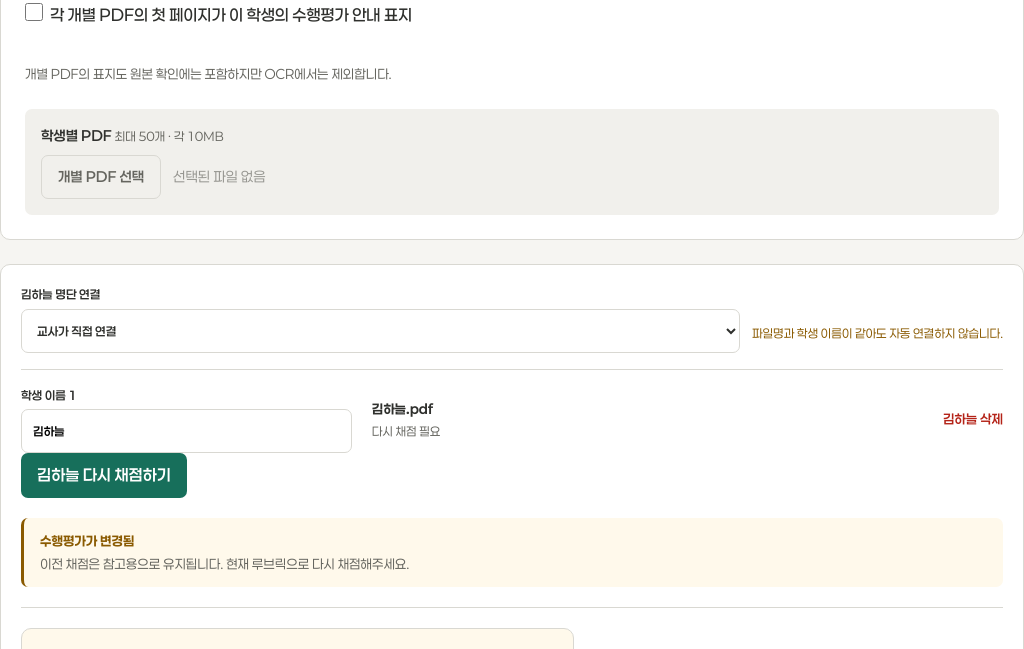
Given regrading is in flight When the teacher edits the existing grading Then the stale response cannot overwrite the edit
(page scrolled)
Click the button "김하늘 다시 채점하기": (104, 476) x1=21 y1=453 x2=187 y2=498
(page scrolled)
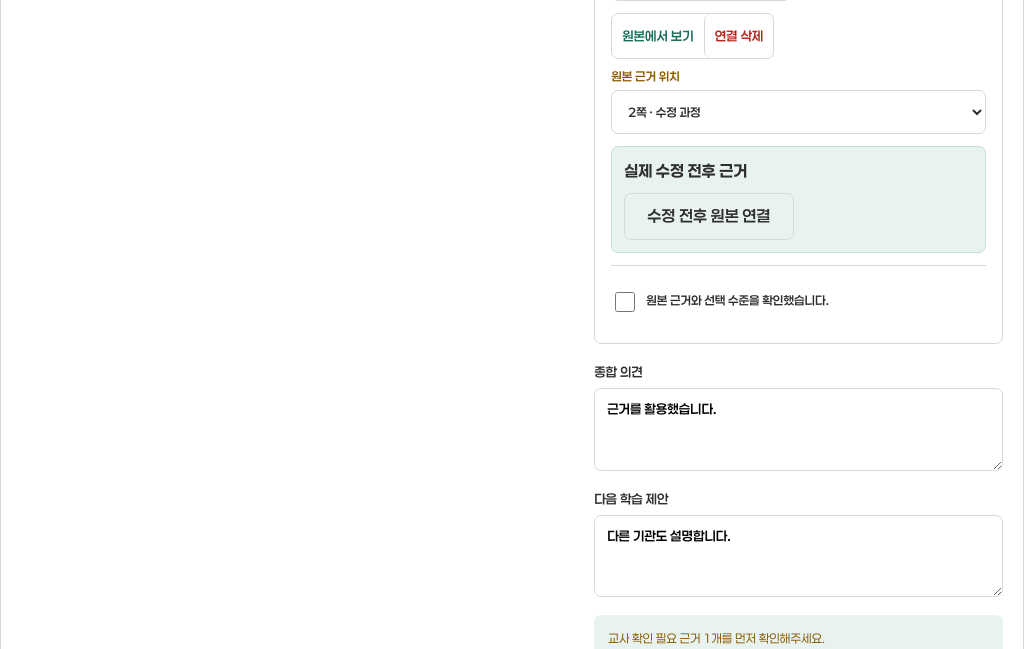
In the text box labelled "종합 의견": (798, 430) x1=594 y1=388 x2=1003 y2=471, type " 교사 수정"
(page scrolled)
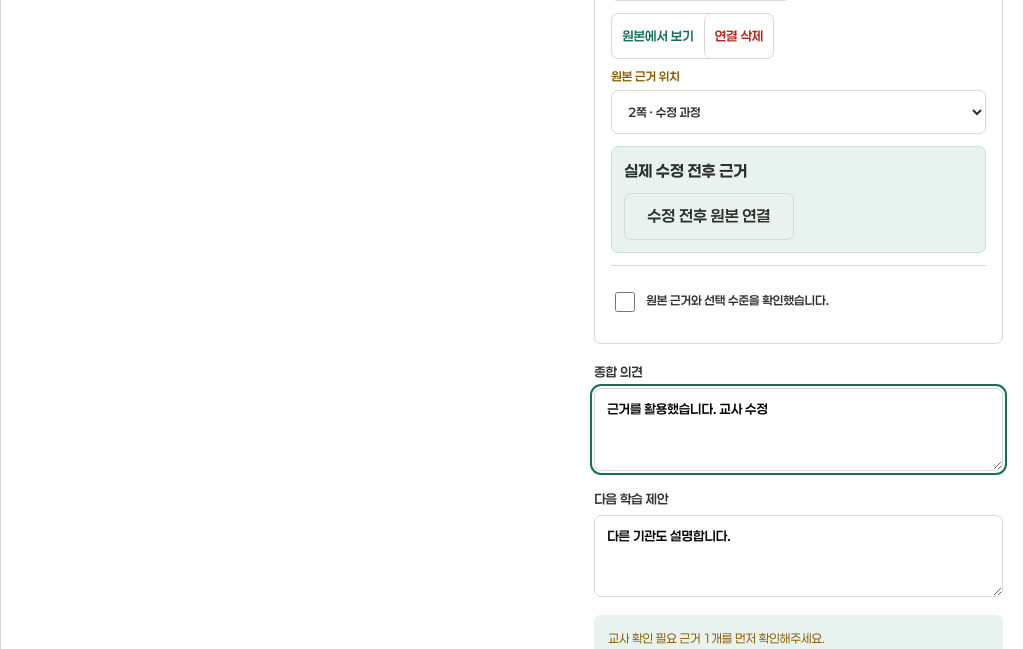
Check: the text box labelled "종합 의견" holds "근거를 활용했습니다. 교사 수정", box x1=594 y1=388 x2=1003 y2=471
